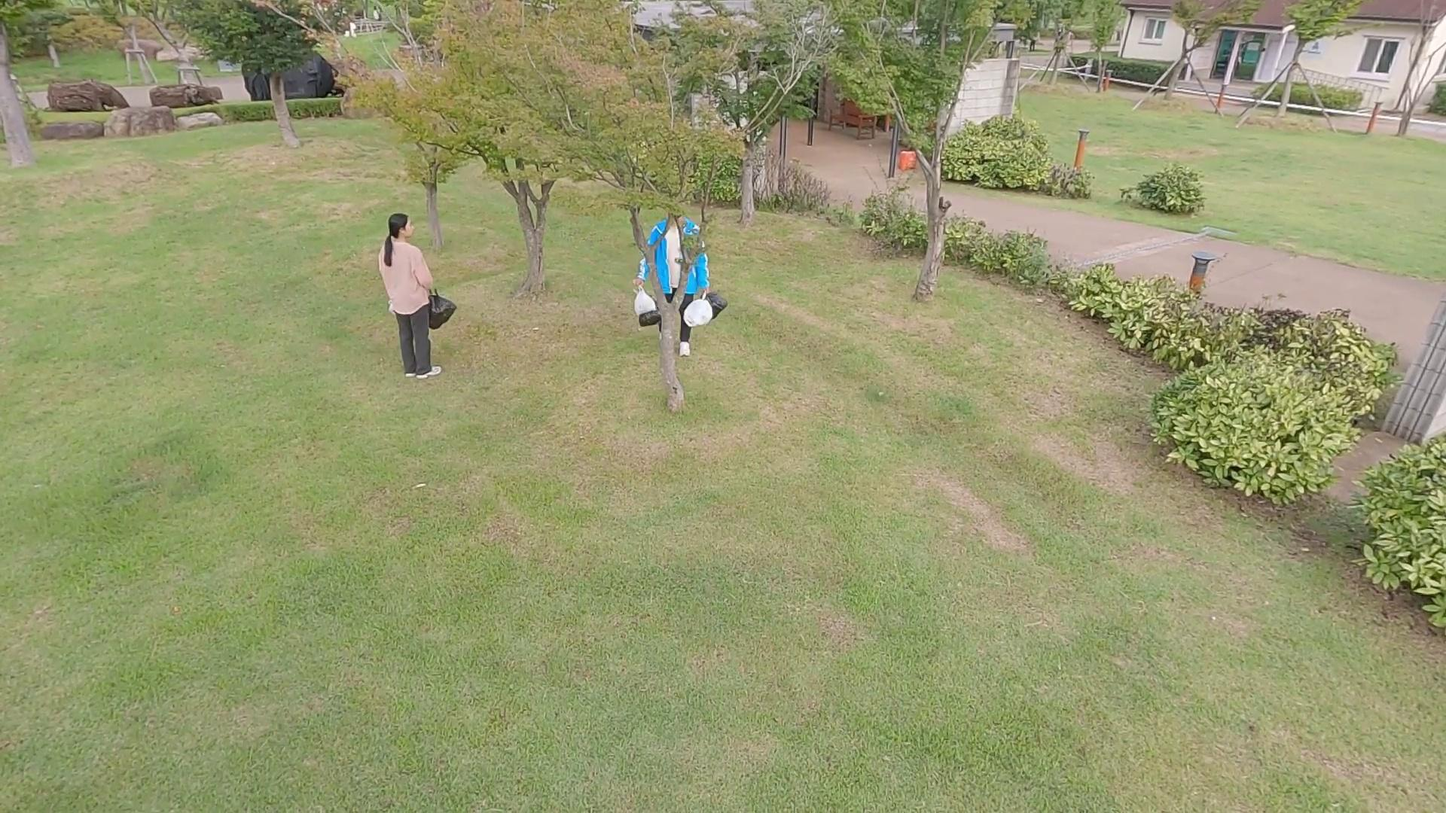person: (635, 194, 716, 358), (380, 211, 443, 379)
trash: (423, 287, 457, 329), (696, 287, 728, 323), (682, 291, 712, 327), (635, 287, 660, 327), (633, 285, 657, 314)
